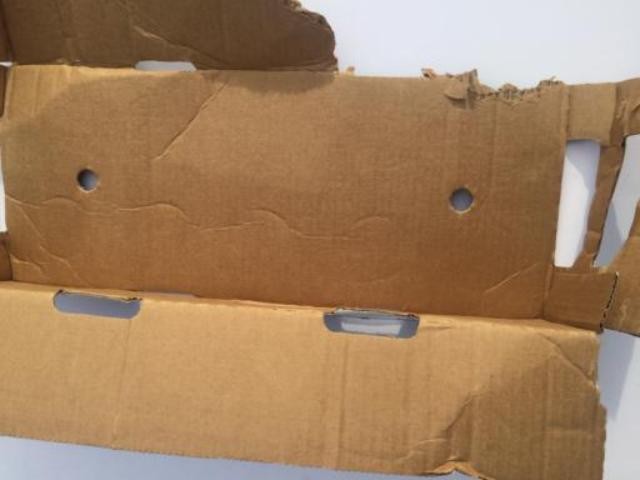cardboard paper: (0, 64, 638, 476)
